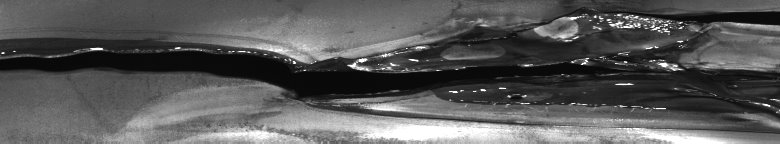ke: (4, 5, 776, 136)
